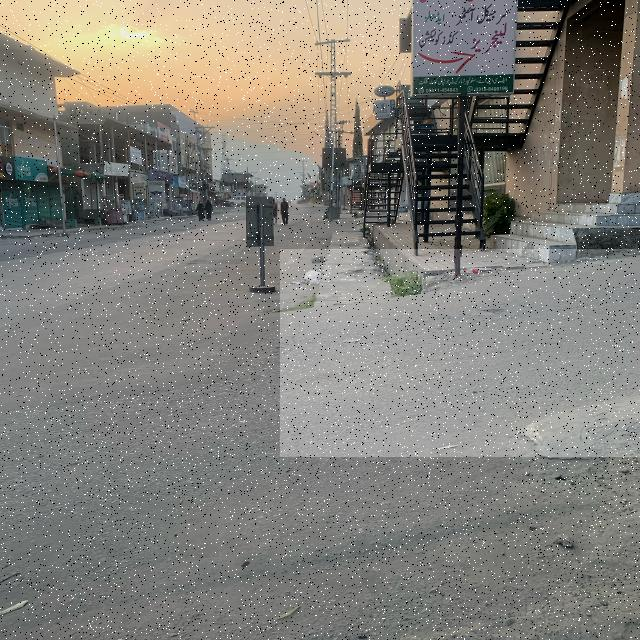right: (280, 249, 640, 457)
